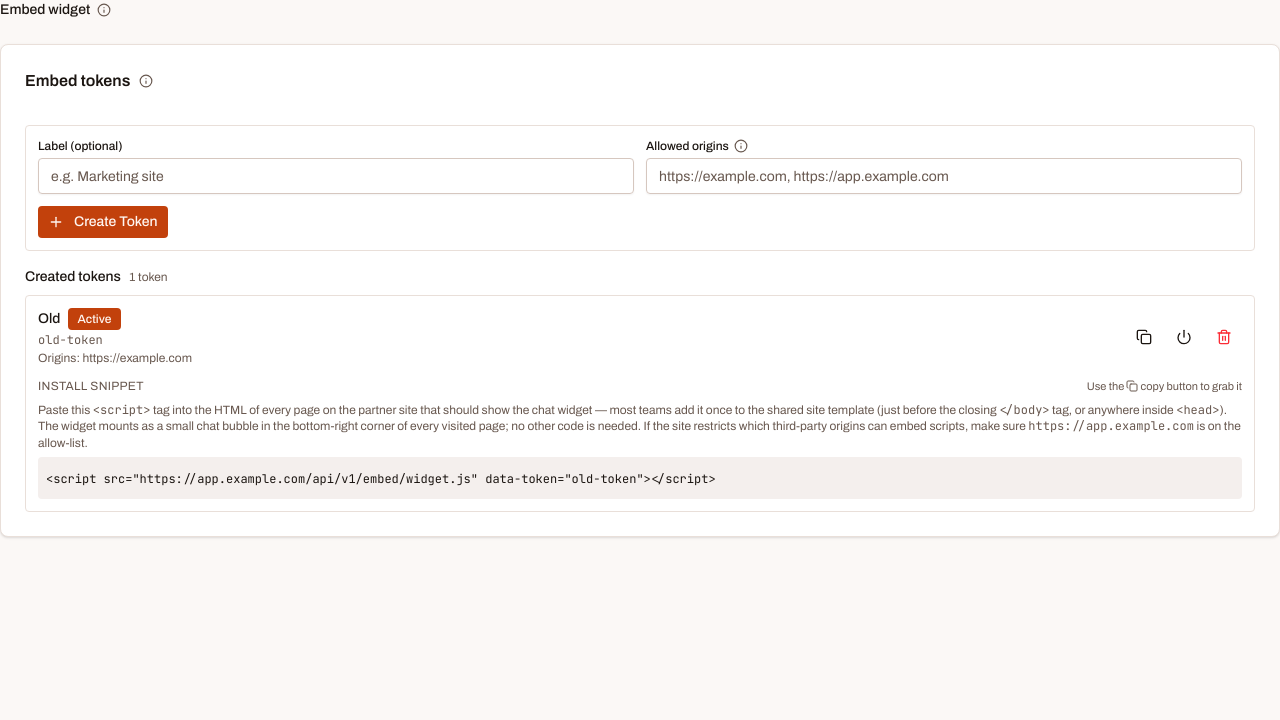
Test: EmbedConfigPanel › prepends new token to list after creation
This screenshot has width=1280, height=720.
Expected: the text "Old" is shown, [38, 309, 60, 329]
Step 1. Type "New" into the field with placeholder "e.g. Marketing site" → (336, 176), box [38, 158, 634, 194]
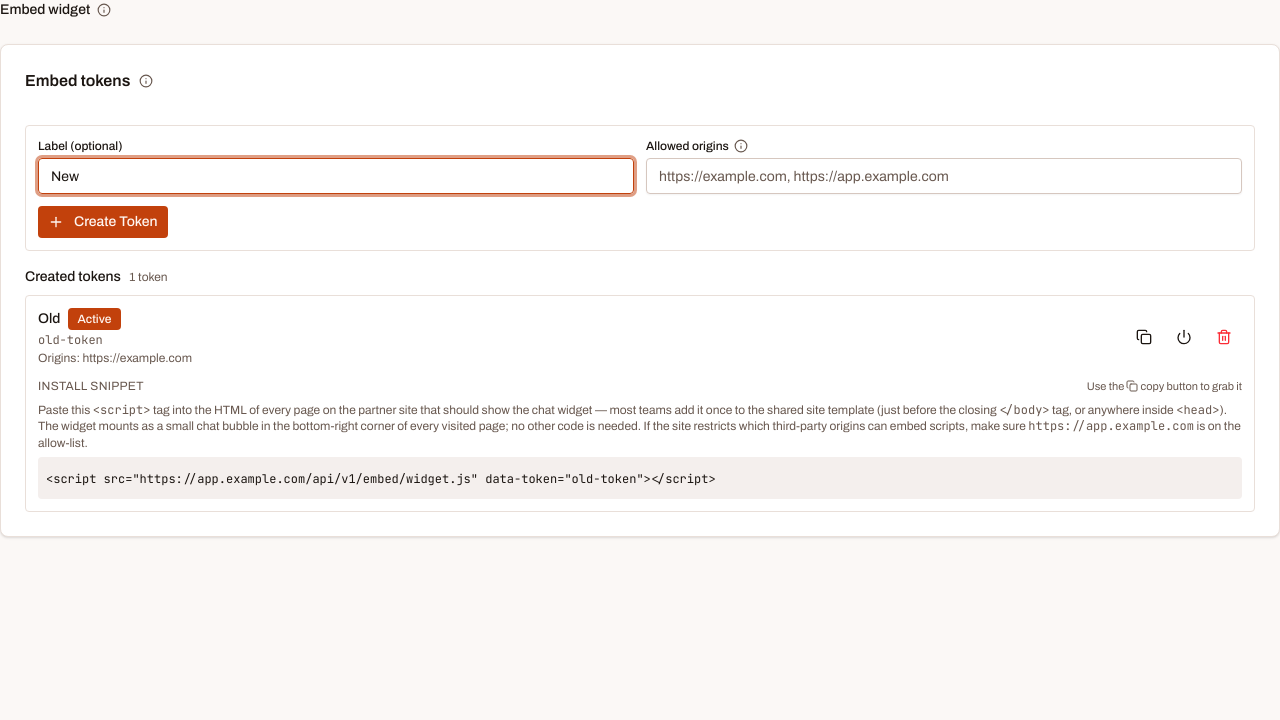
Step 2. Click the button "Create Token" → (103, 222), box [38, 206, 168, 238]
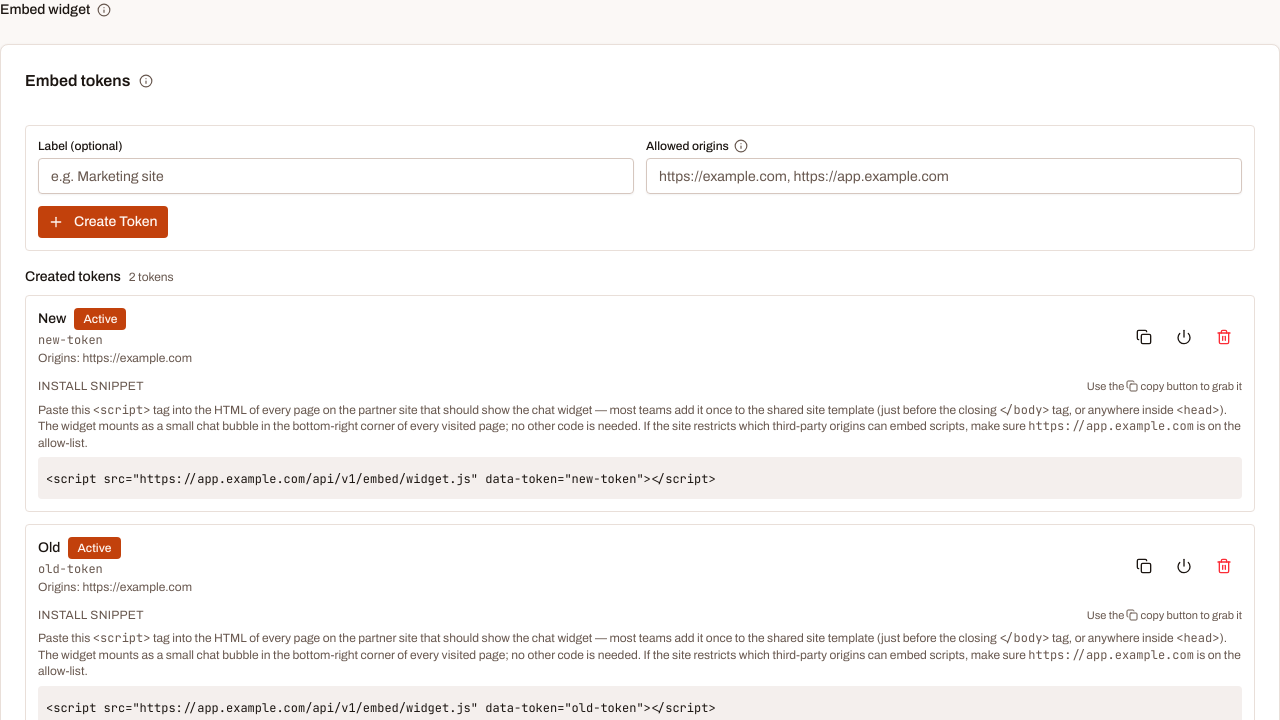
Expected: the text "Old" is shown, [38, 538, 60, 558]
Now the text "New" is shown, box [38, 309, 66, 329]
